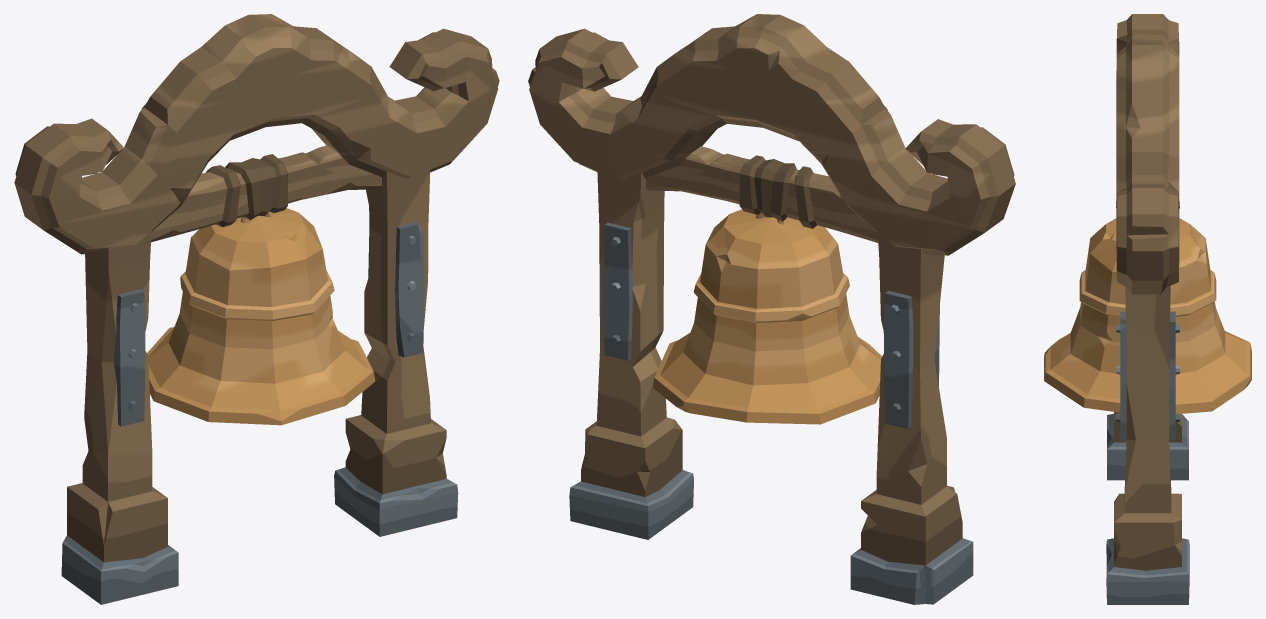
Rendered from SM_Prop_Bell_01.fbx.
3 views of the same model, side by side, from view 1: azimuth 30°, elevation 25°; view 2: azimuth 150°, elevation 25°; view 3: azimuth 270°, elevation 25° (orthographic). The views are drawn at different scales.
Visible parts, largest first — view 1: SM_Prop_Bell_01; view 2: SM_Prop_Bell_01; view 3: SM_Prop_Bell_01.
Part boxes in pixels (box(x1,y1,x2,y2)): SM_Prop_Bell_01: box(14, 14, 499, 604); SM_Prop_Bell_01: box(528, 14, 1015, 604); SM_Prop_Bell_01: box(1044, 14, 1251, 604).
Bounding box in the file's own units: 270 × 289 × 113.
